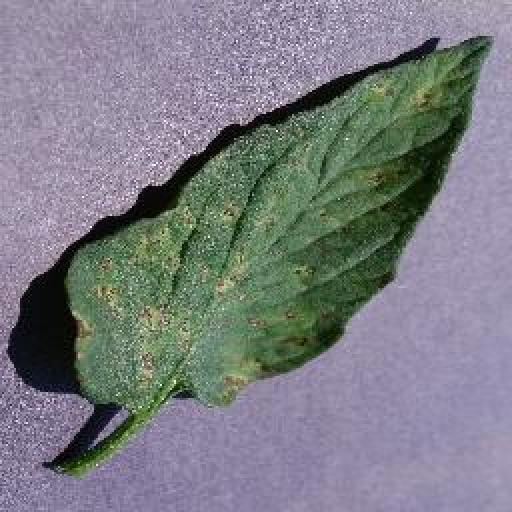Septoria: (66, 30, 493, 410)
